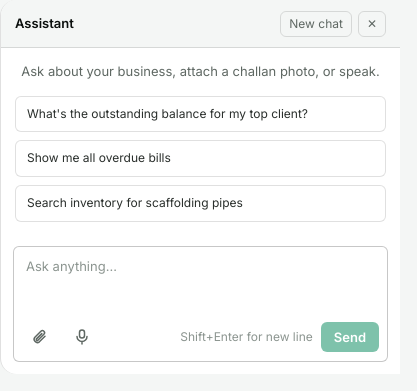
Test: AssistantPanel › sends a message and shows the assistant reply
Type "overdue?" into the text box named "Message the assistant" at {"x": 200, "y": 284}, box left=22, top=255, right=379, bottom=313
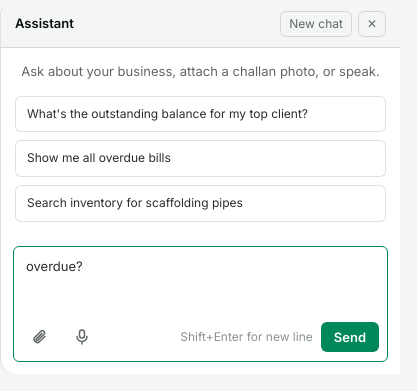
Click the button "Send" at {"x": 350, "y": 337}, box left=321, top=322, right=379, bottom=352
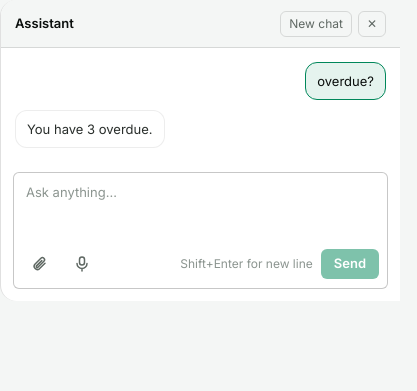
Expected: the text "You have 3 overdue." is shown, left=15, top=110, right=165, bottom=148
Expected: the text "overdue?" is shown, left=305, top=62, right=386, bottom=100
